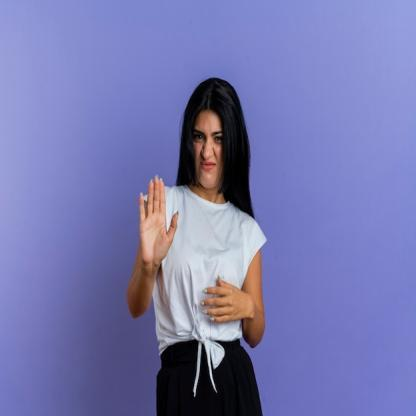stop: (135, 173, 181, 268)
